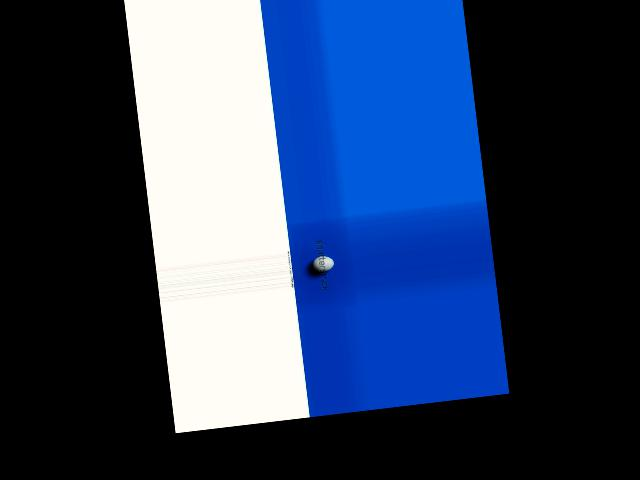egg: (311, 255, 335, 273)
